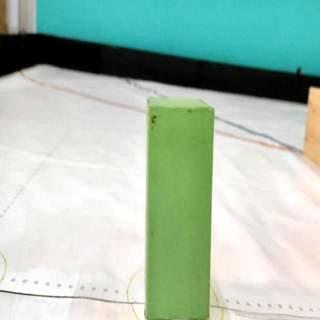greenbox: (144, 95, 215, 320)
